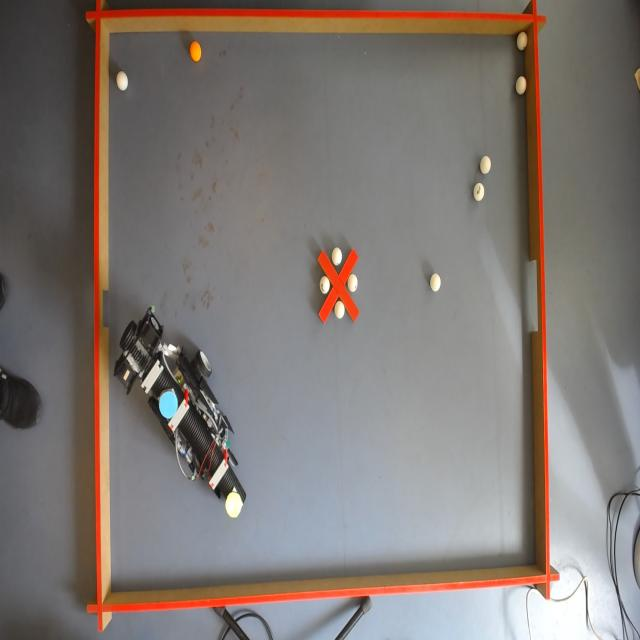orange: (190, 43, 205, 64)
robot: (111, 307, 251, 522)
robot-front: (226, 494, 242, 522)
robot-rear: (161, 388, 178, 420)
white: (431, 271, 444, 292), (516, 32, 529, 52), (117, 71, 128, 94), (515, 76, 527, 96), (332, 249, 344, 268), (479, 156, 491, 174), (333, 302, 344, 320), (474, 185, 485, 202), (348, 275, 359, 290), (320, 277, 330, 292)
